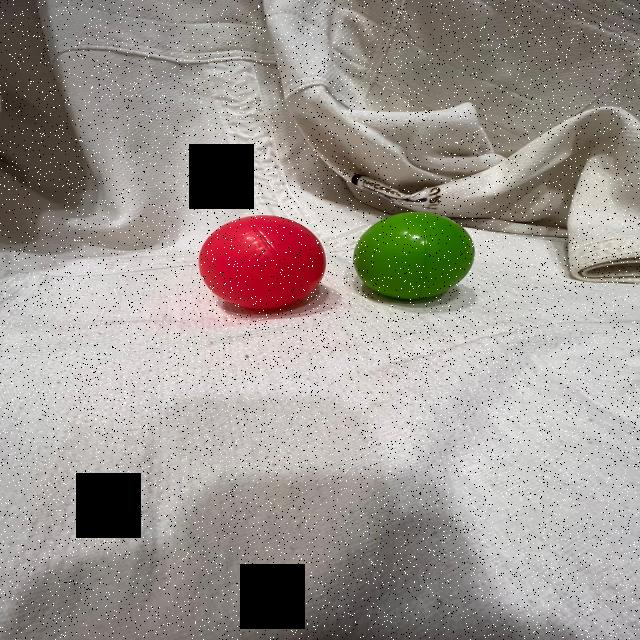ball: (194, 213, 330, 314), (350, 208, 478, 305)
